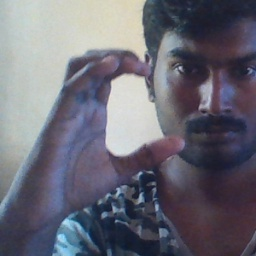C: (75, 45, 188, 185)
